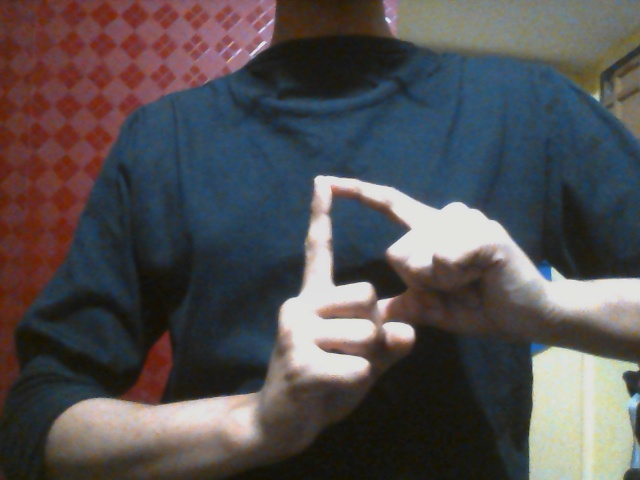D: (261, 173, 521, 454)
